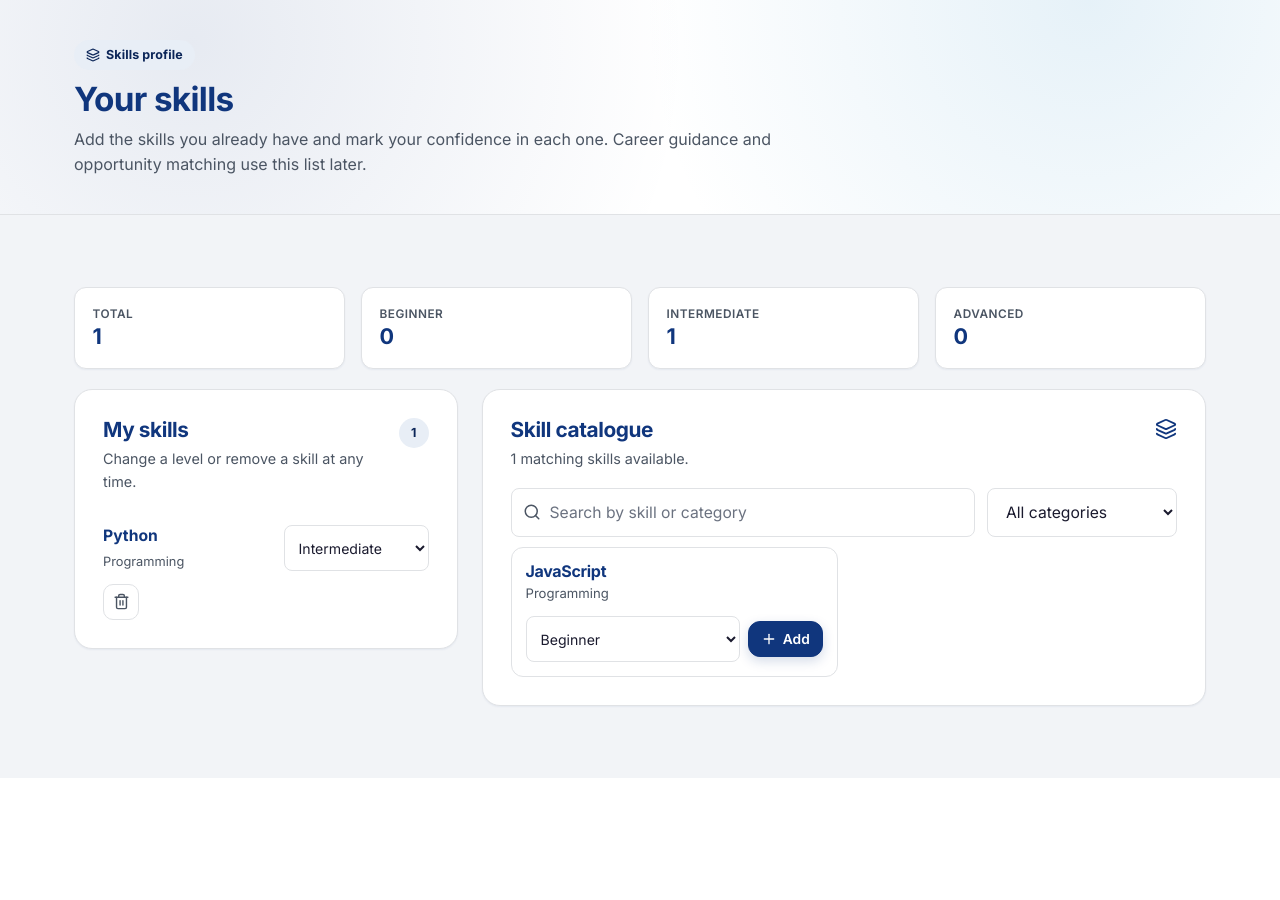
adds a catalogue skill with the selected level
Step 1. Click the button with aria-label "add javascript to your skills" → (785, 639), box [748,621,823,657]
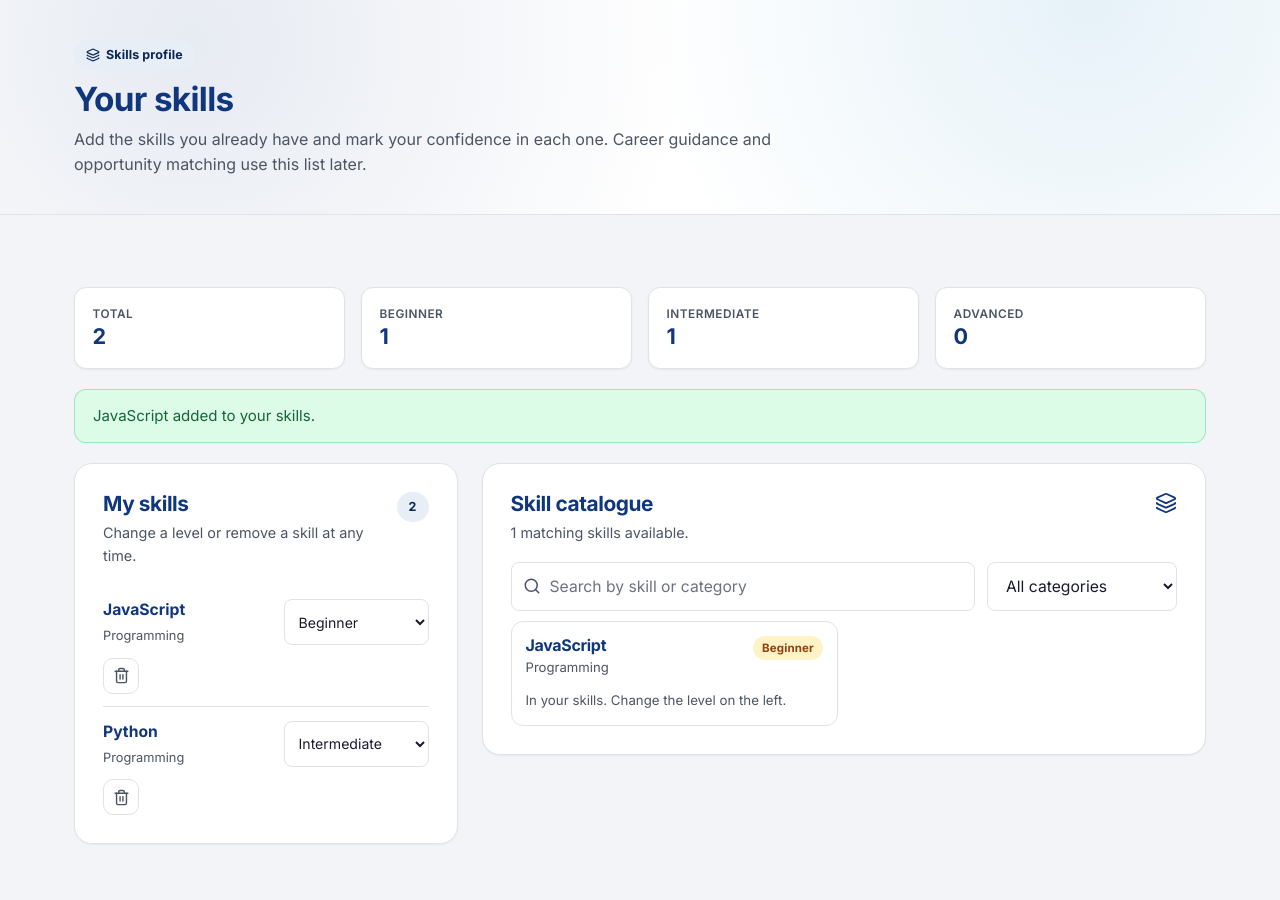
Now the text "JavaScript added to your skills." is shown, box [74,389,1206,443]
